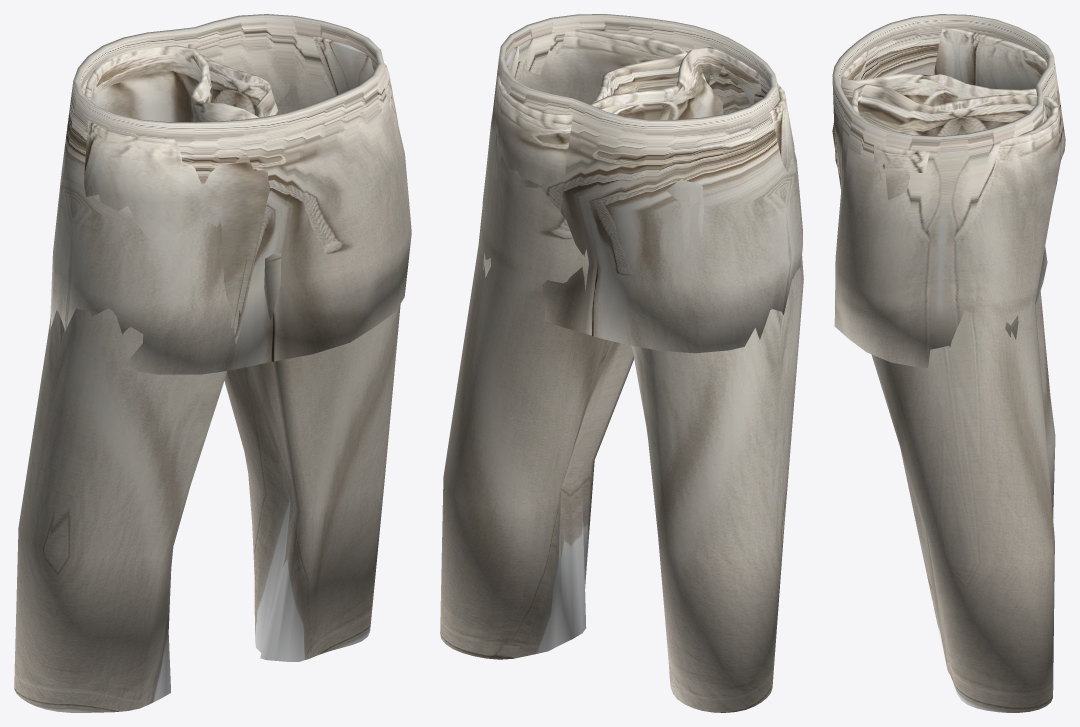
File: 4c765d62-58d4-4375-96a0-bcbff562eecf.glb
The picture shows the model from 3 angles, left to right: view 1: azimuth 30°, elevation 25°; view 2: azimuth 150°, elevation 25°; view 3: azimuth 270°, elevation 25°; orthographic projection. The views are drawn at different scales.
Parts seen in each view (by area): view 1: garment_leg0; view 2: garment_leg0; view 3: garment_leg0.
Part boxes in pixels (x1,y1,x2,y2): garment_leg0: (14,14,411,712); garment_leg0: (440,14,803,712); garment_leg0: (832,14,1065,712).
Bounding box in the file's own units: 0.4492 × 0.7726 × 0.2885.
Materials: 1 (1 with a texture image).
